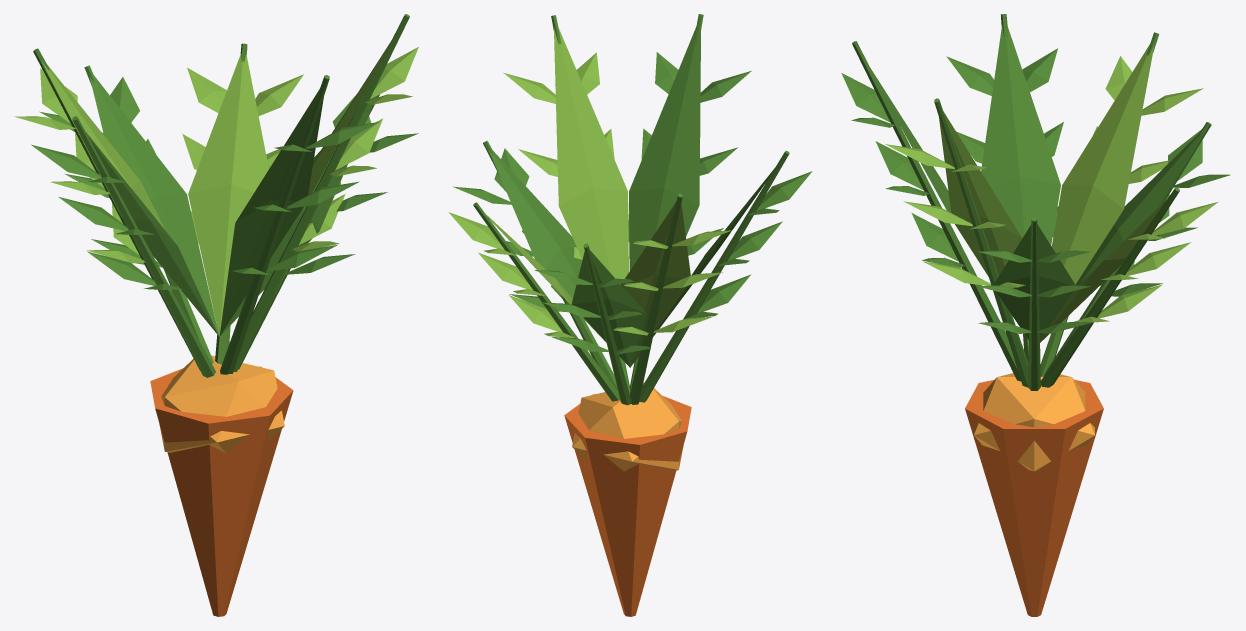
Rendered from carrot_stage_2.glb.
3 views of the same model, side by side, from view 1: azimuth 30°, elevation 25°; view 2: azimuth 150°, elevation 25°; view 3: azimuth 270°, elevation 25° (orthographic). The views are drawn at different scales.
Parts seen in each view (by area): view 1: carrot_stage_2_Mesh; view 2: carrot_stage_2_Mesh; view 3: carrot_stage_2_Mesh.
Boxes of the visible parts, x1,y1,x2,y2 form: carrot_stage_2_Mesh: (14, 14, 418, 616); carrot_stage_2_Mesh: (448, 14, 812, 616); carrot_stage_2_Mesh: (841, 14, 1230, 616).
Bounding box in the file's own units: 0.3947 × 0.6539 × 0.3996.
